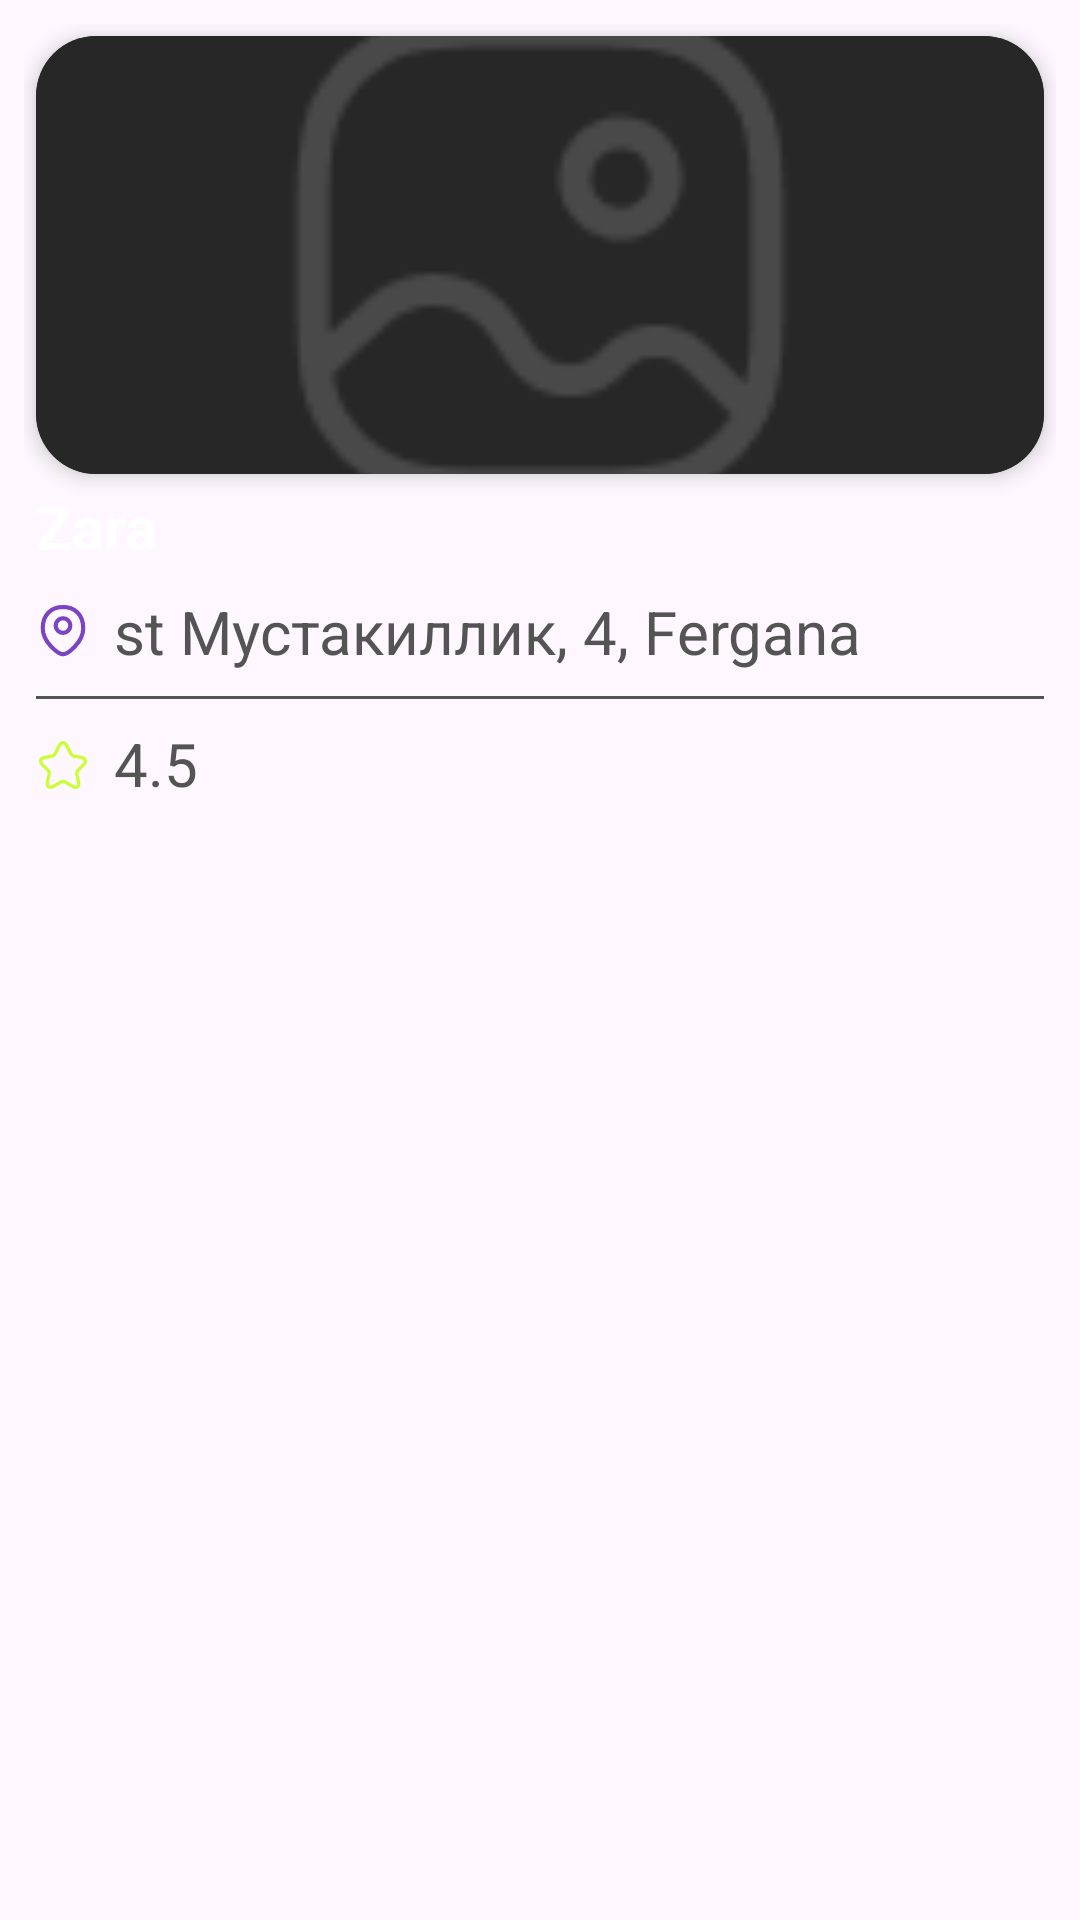

Icons on this 1080 x 1920 Android screen, each with its box as (x1, y1, x2, y2):
location: (40, 605, 86, 657)
star: (38, 741, 88, 789)
